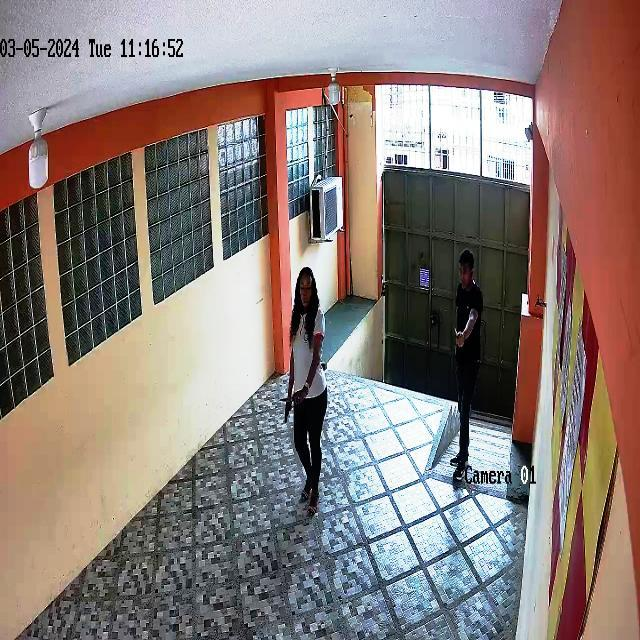Knife: (274, 391, 298, 427)
